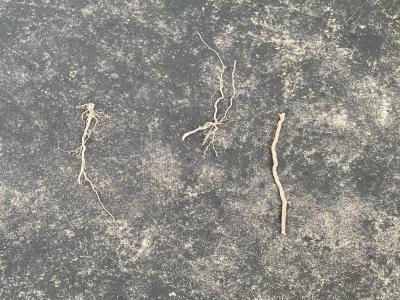Root: (69, 103, 115, 222), (182, 61, 236, 149), (271, 113, 287, 234)
